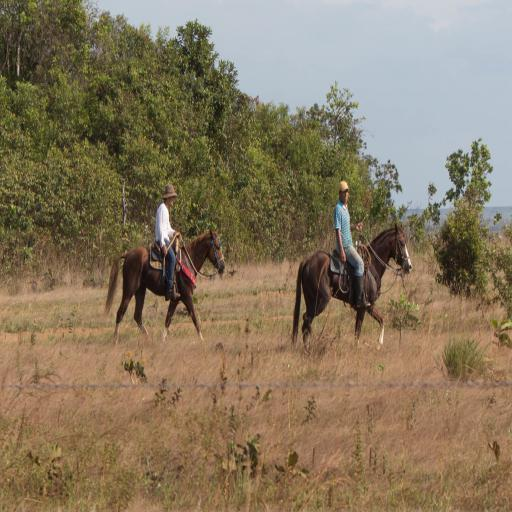horse: (290, 222, 412, 352), (103, 228, 227, 348)
